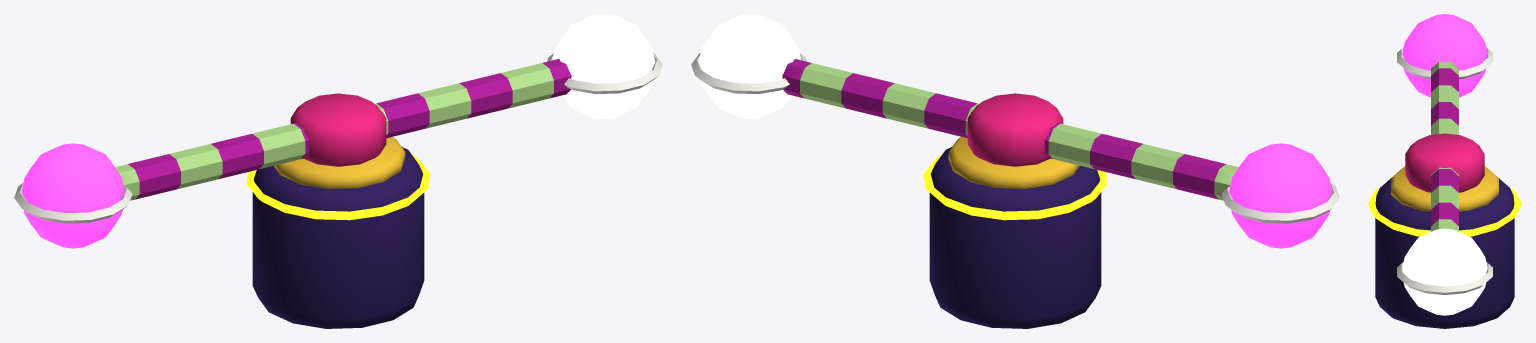
File: Track_Spinner.fbx
3 views of the same model, side by side, from view 1: azimuth 30°, elevation 25°; view 2: azimuth 150°, elevation 25°; view 3: azimuth 270°, elevation 25° (orthographic). The views are drawn at different scales.
Parts seen in each view (by area): view 1: Arm, Static; view 2: Arm, Static; view 3: Arm, Static.
Part boxes in pixels (bbox=[...]): Arm: bbox=[14, 14, 662, 248]; Static: bbox=[246, 136, 430, 328]; Arm: bbox=[691, 14, 1339, 248]; Static: bbox=[923, 136, 1107, 328]; Arm: bbox=[1397, 14, 1492, 315]; Static: bbox=[1368, 166, 1521, 328].
Size of the model in its own units: 7.64 by 2.5 by 1.94.
